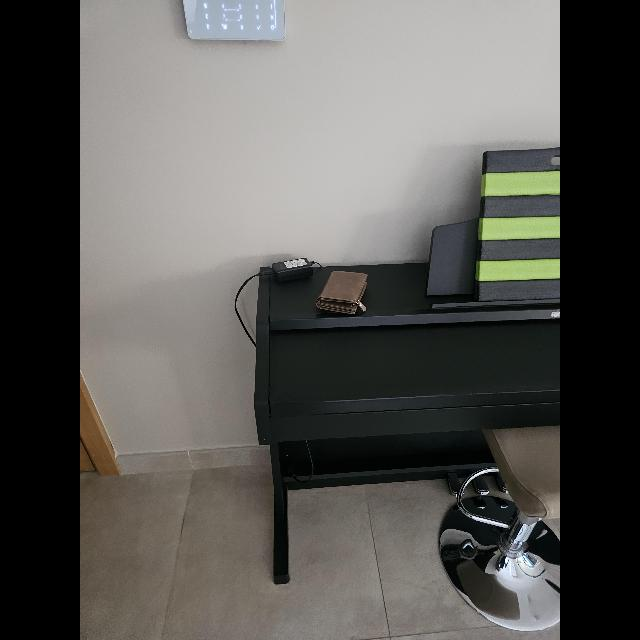Wallet: (314, 270, 370, 316)
